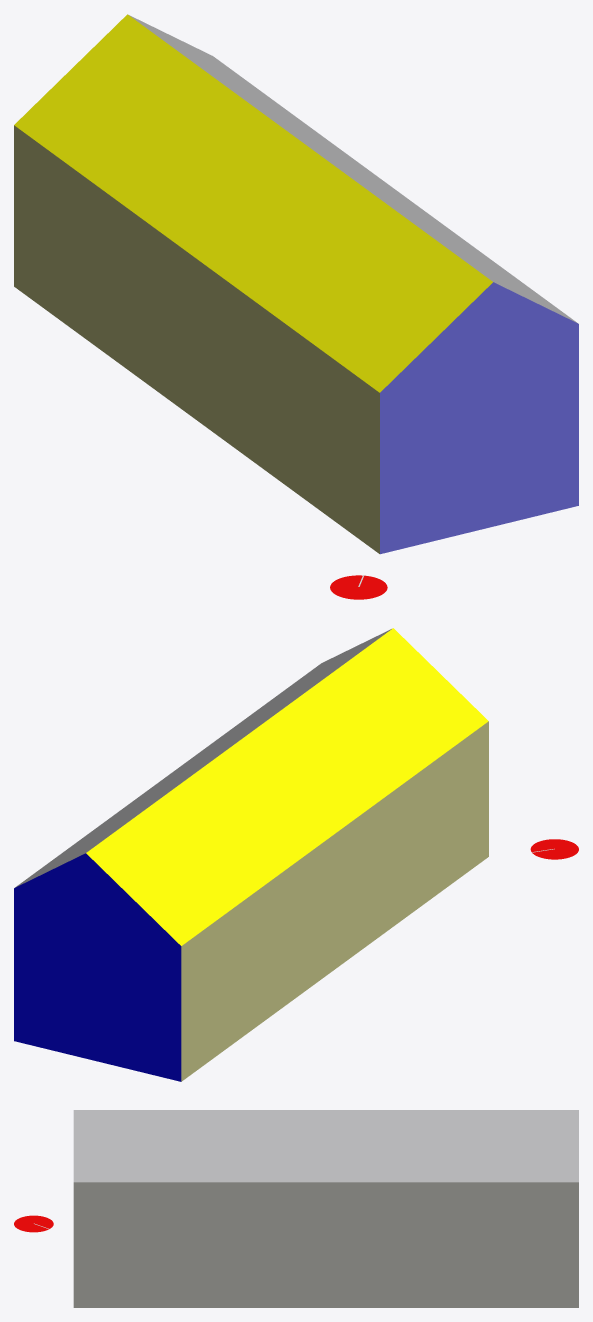
File: result.glb
3 renders of one model, top to bottom at view 1: azimuth 30°, elevation 25°; view 2: azimuth 150°, elevation 25°; view 3: azimuth 270°, elevation 25°, orthographic. The views are drawn at different scales.
Parts seen in each view (by area): view 1: 94d2a7bb-0a08-44dd-a356-59b8f8e07268__undefined, 129f4a0f-c6a8-42ed-821a-affca5eced33__undefined, 23bf2735-31e4-48e0-ac3a-c23e4d42f6b3__undefined, fd2b9ef6-5464-4871-919d-1d3922fb7823__undefined, 5a70ebec-8d5b-40a3-889f-37db9b923df2__Circle; view 2: 94d2a7bb-0a08-44dd-a356-59b8f8e07268__undefined, 129f4a0f-c6a8-42ed-821a-affca5eced33__undefined, b5384b42-c6ad-47a3-873c-564948a85769__undefined, fd2b9ef6-5464-4871-919d-1d3922fb7823__undefined, 5a70ebec-8d5b-40a3-889f-37db9b923df2__Circle; view 3: 2e3ecc6b-e4bc-4c4a-836c-33362041a407__undefined, fd2b9ef6-5464-4871-919d-1d3922fb7823__undefined, 5a70ebec-8d5b-40a3-889f-37db9b923df2__Circle.
Boxes of the visible parts, x1,y1,x2,y2 form: 94d2a7bb-0a08-44dd-a356-59b8f8e07268__undefined: (14,14,492,392); 129f4a0f-c6a8-42ed-821a-affca5eced33__undefined: (14,125,379,553); 23bf2735-31e4-48e0-ac3a-c23e4d42f6b3__undefined: (380,282,578,554); fd2b9ef6-5464-4871-919d-1d3922fb7823__undefined: (129,15,577,323); 5a70ebec-8d5b-40a3-889f-37db9b923df2__Circle: (330,575,387,599); 94d2a7bb-0a08-44dd-a356-59b8f8e07268__undefined: (86,628,488,945); 129f4a0f-c6a8-42ed-821a-affca5eced33__undefined: (181,721,488,1081); b5384b42-c6ad-47a3-873c-564948a85769__undefined: (14,853,181,1081); fd2b9ef6-5464-4871-919d-1d3922fb7823__undefined: (15,629,391,887); 5a70ebec-8d5b-40a3-889f-37db9b923df2__Circle: (530,839,578,859); 2e3ecc6b-e4bc-4c4a-836c-33362041a407__undefined: (73,1182,578,1307); fd2b9ef6-5464-4871-919d-1d3922fb7823__undefined: (73,1110,578,1182); 5a70ebec-8d5b-40a3-889f-37db9b923df2__Circle: (14,1215,53,1232).
Size of the model in its own units: 550 by 469 by 1423.
